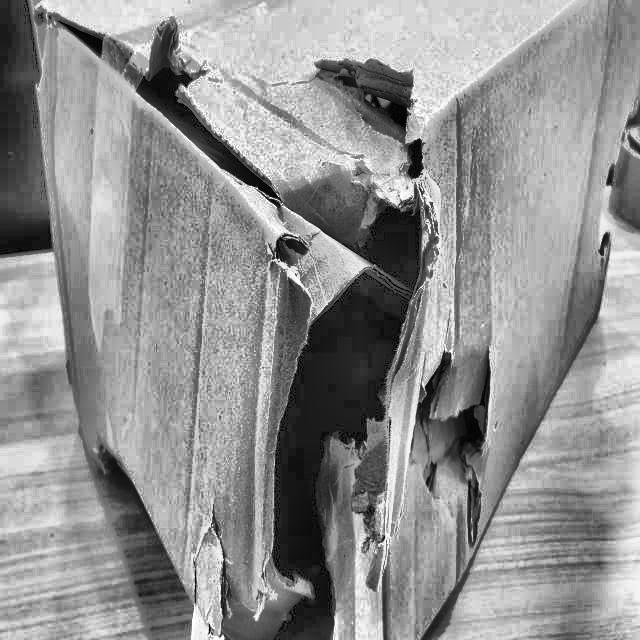box: (20, 0, 639, 639)
hole: (254, 183, 430, 640), (302, 55, 434, 175), (440, 348, 496, 456)
